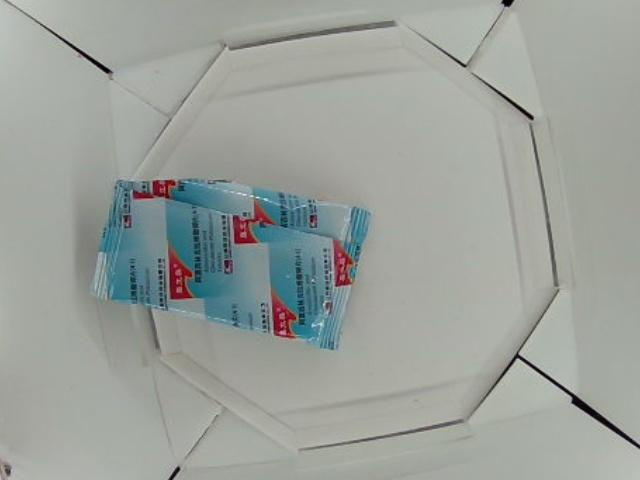Medicine: (88, 175, 373, 348)
